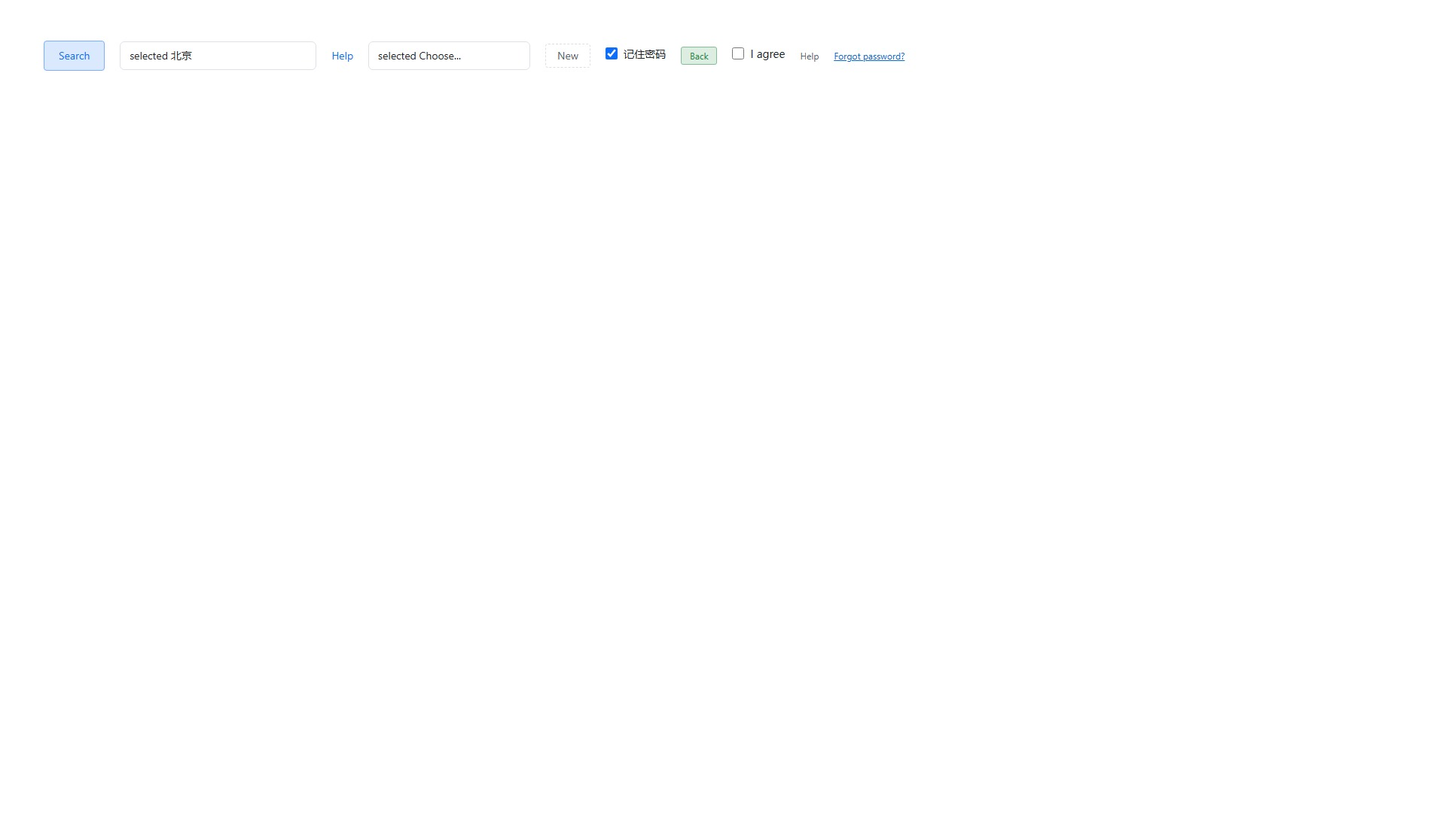button: (44, 41, 105, 71), (545, 44, 590, 68), (681, 47, 717, 65)
checkbox: (605, 47, 618, 59), (732, 47, 744, 59)
icon: (624, 46, 666, 61), (750, 46, 785, 61)
link: (834, 50, 905, 62), (331, 48, 353, 62), (800, 50, 819, 62)
radio: (605, 46, 666, 61), (732, 46, 785, 61)
select: (120, 41, 316, 70), (368, 41, 530, 70)
